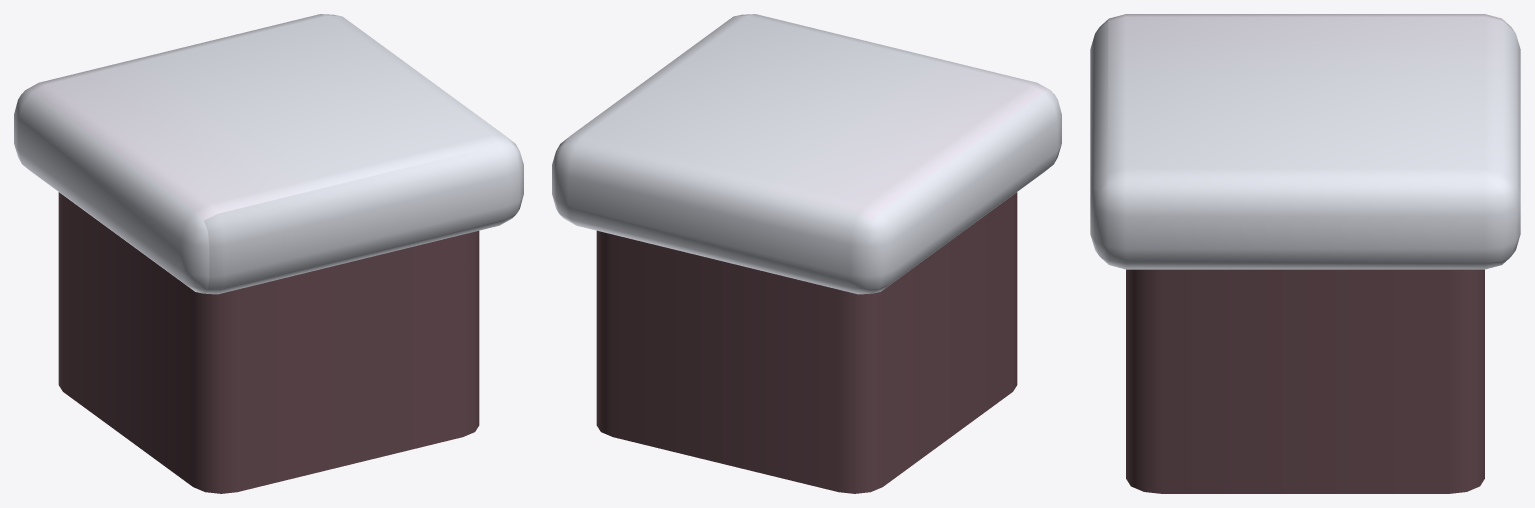
The model's file is GroundLevelButtonWinter.fbx.
The picture shows the model from 3 angles, left to right: view 1: azimuth 30°, elevation 25°; view 2: azimuth 150°, elevation 25°; view 3: azimuth 270°, elevation 25°; orthographic projection. The views are drawn at different scales.
Visible parts, largest first — view 1: GroundLevelButtonWinter; view 2: GroundLevelButtonWinter; view 3: GroundLevelButtonWinter.
Boxes of the visible parts, box(x1,y1,x2,y2) form: GroundLevelButtonWinter: box(14, 14, 523, 493); GroundLevelButtonWinter: box(552, 14, 1061, 493); GroundLevelButtonWinter: box(1090, 14, 1520, 493).
Bounding box in the file's own units: 240 × 200 × 240.
